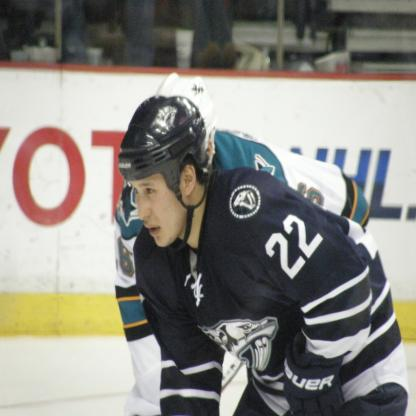Helmet: (115, 93, 210, 263), (156, 72, 220, 170)
